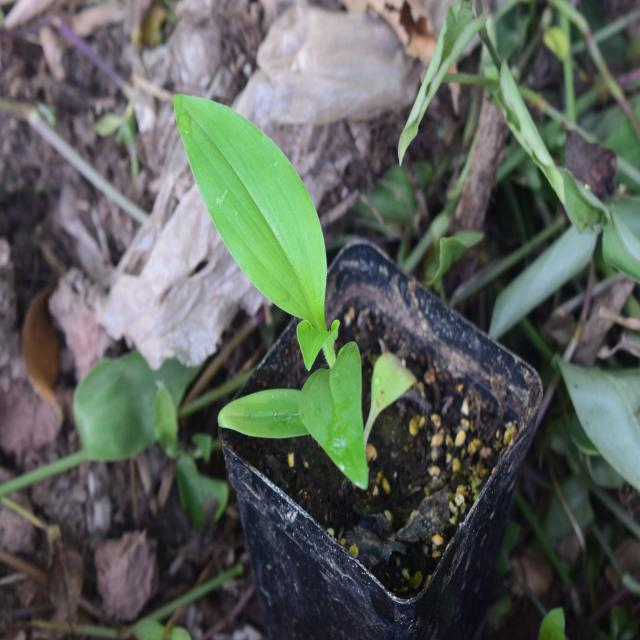Common Dayflower: (162, 72, 382, 490)
